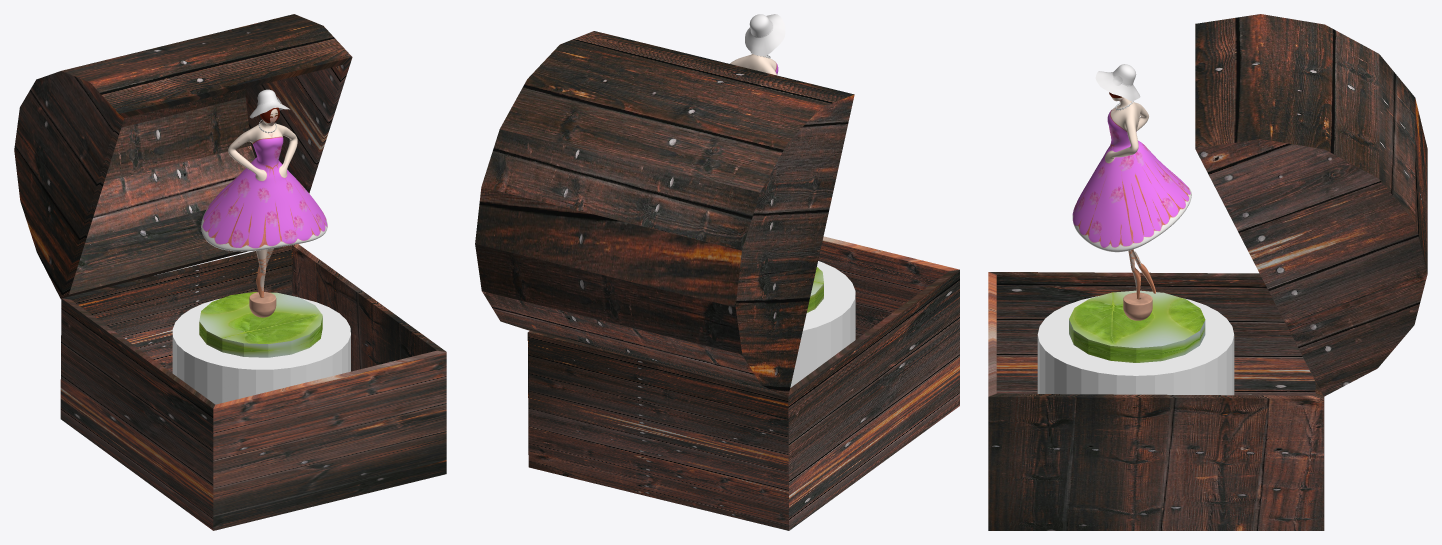
Rendered from music box 0203-v3.fbx.
The picture shows the model from 3 angles, left to right: view 1: azimuth 30°, elevation 25°; view 2: azimuth 150°, elevation 25°; view 3: azimuth 270°, elevation 25°; orthographic projection. The views are drawn at different scales.
Parts seen in each view (by area): view 1: box body, dance base, 01-glass base; view 2: box body, 01-glass base, dance base; view 3: box body, dance base, 01-glass base.
Boxes of the visible parts, bbox=[...] form: box body: bbox=[14, 14, 446, 530]; dance base: bbox=[199, 89, 327, 357]; 01-glass base: bbox=[172, 298, 350, 404]; box body: bbox=[475, 31, 959, 530]; 01-glass base: bbox=[790, 261, 855, 387]; dance base: bbox=[730, 14, 823, 312]; box body: bbox=[988, 14, 1427, 530]; dance base: bbox=[1069, 64, 1205, 362]; 01-glass base: bbox=[1037, 296, 1234, 395].
Bounding box in the file's own units: 348 × 520 × 514.
